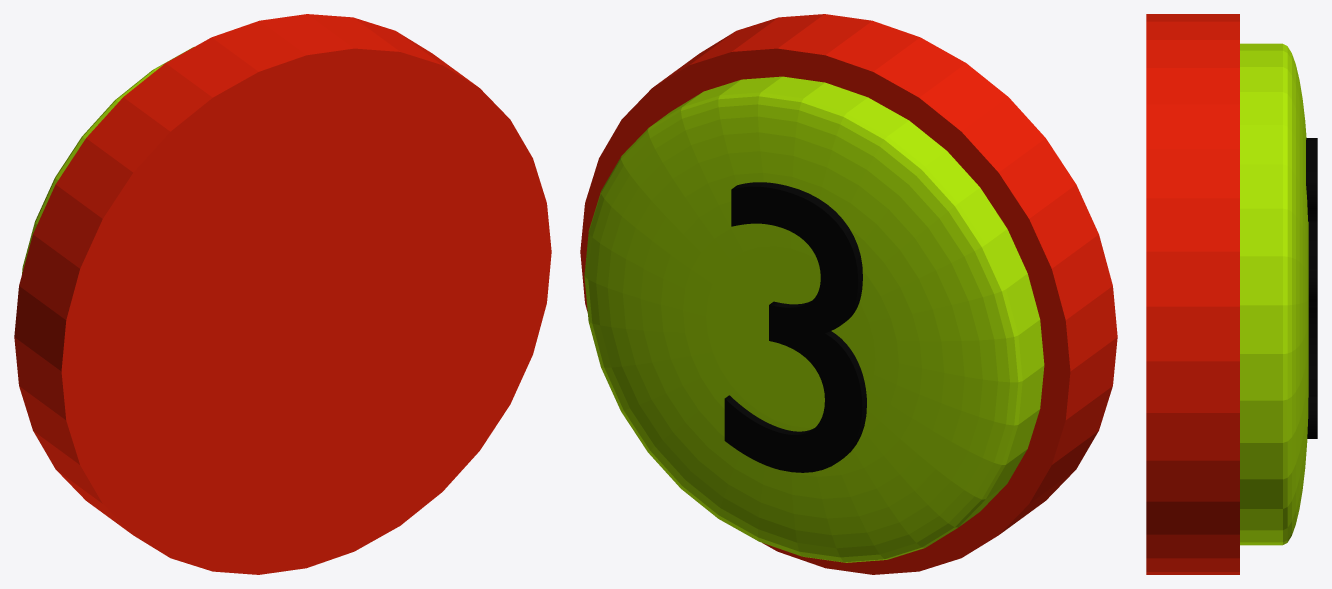
Rendered from three button.gltf.
The picture shows the model from 3 angles, left to right: view 1: azimuth 30°, elevation 25°; view 2: azimuth 150°, elevation 25°; view 3: azimuth 270°, elevation 25°; orthographic projection.
Visible parts, largest first — view 1: Cylinder; view 2: Cylinder, Text.001; view 3: Cylinder, Text.001.
Part boxes in pixels (left/top/right/bottom): Cylinder: left=14, top=14, right=551, bottom=574; Cylinder: left=580, top=14, right=1117, bottom=574; Text.001: left=724, top=182, right=866, bottom=472; Cylinder: left=1146, top=14, right=1308, bottom=574; Text.001: left=1306, top=138, right=1317, bottom=438.
Bounding box in the file's own units: 4.53 × 4.53 × 1.38.
